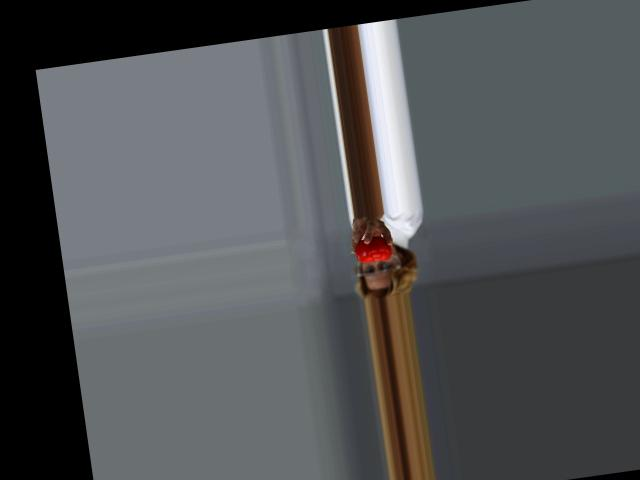tomato: (354, 234, 394, 263)
